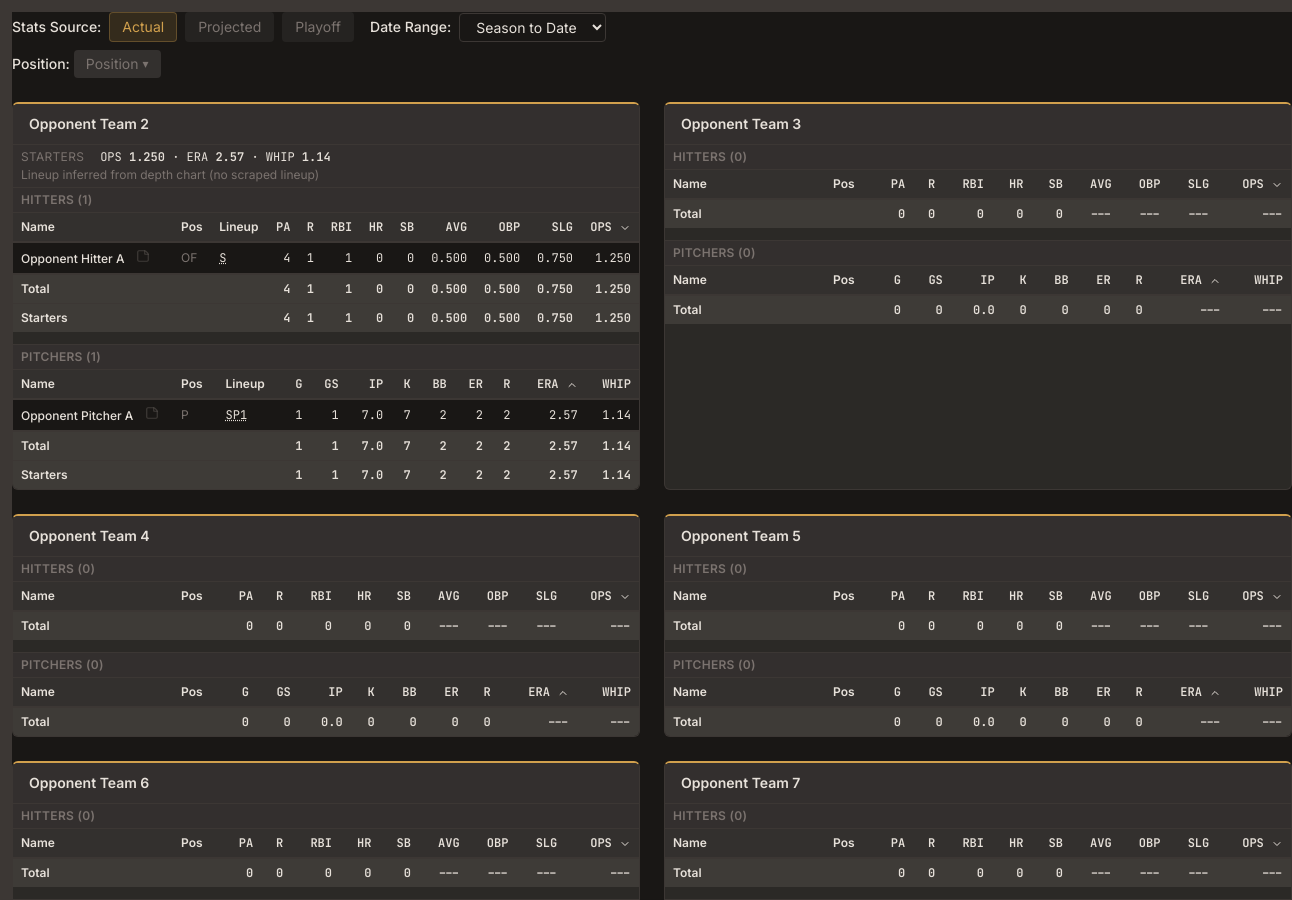
Test: OpponentsGrid › shows matching hitters when their position is selected
Note: Open Position dropdown and select "OF"
Step 1. Click the button "Position ▾" → (117, 64), box 74,50 -> 160,78
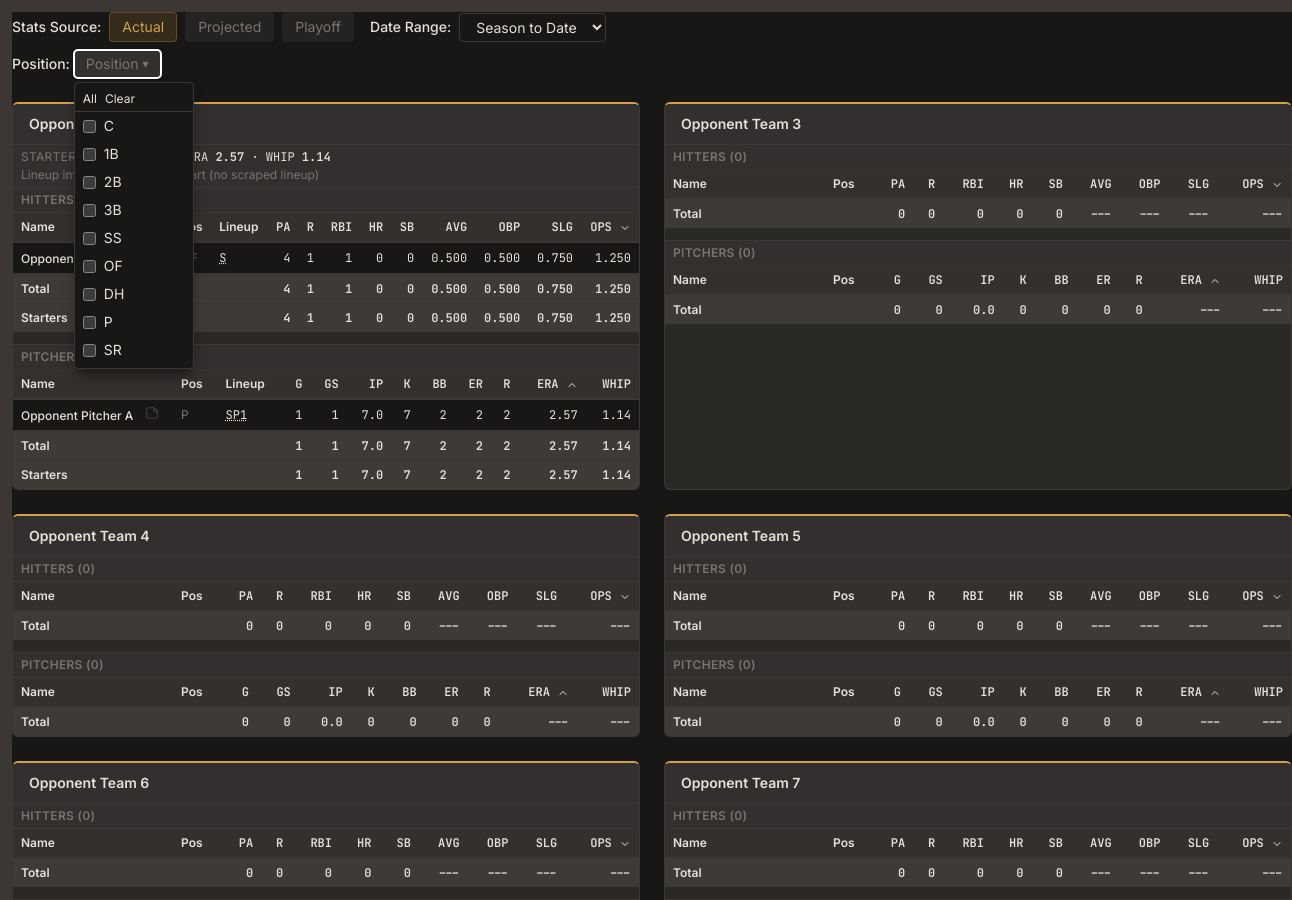
Step 2. Click the checkbox labelled "OF" → (89, 266), box 83,260 -> 96,272
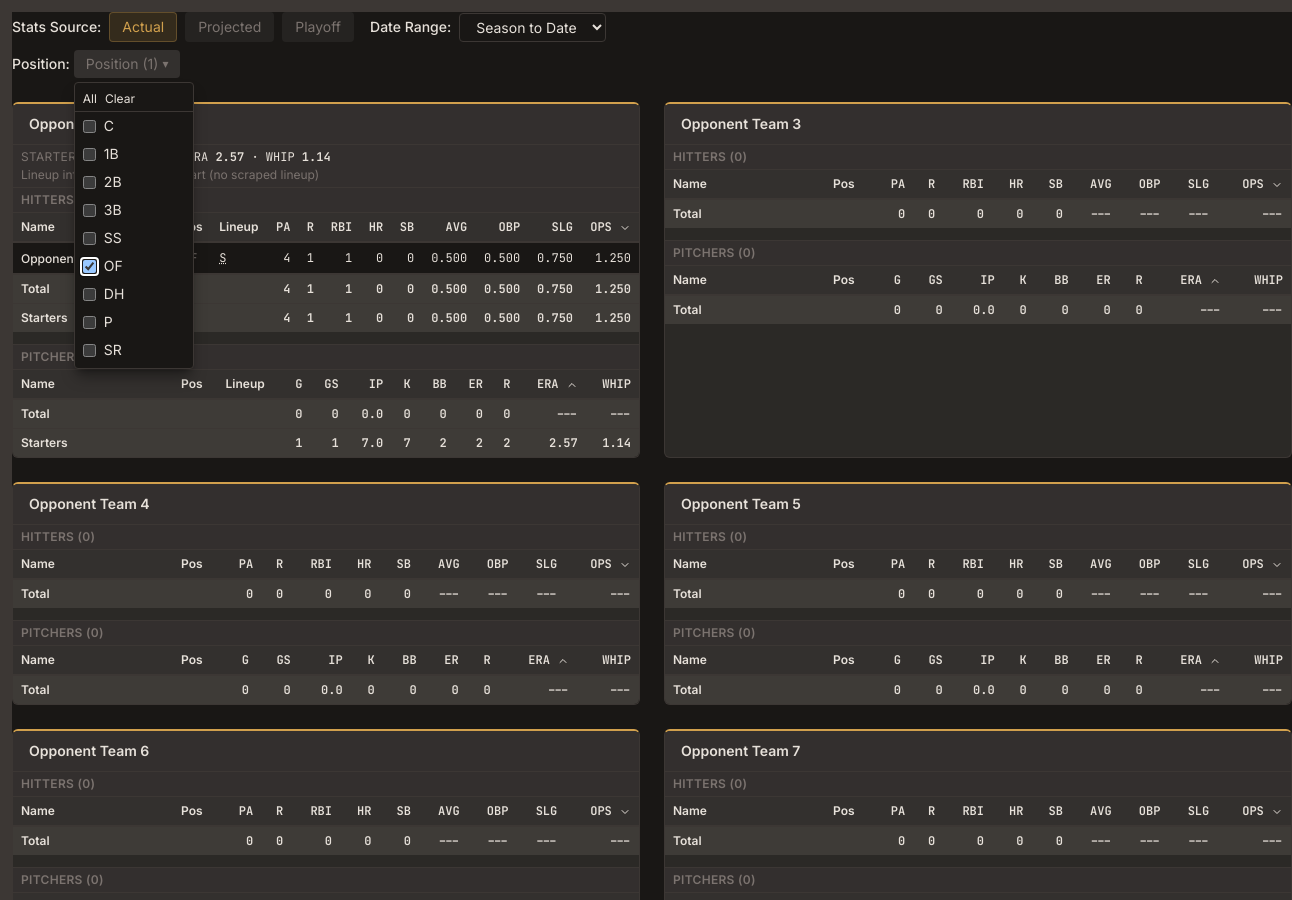
expect the link "Opponent Hitter A" is shown: met, box 21,251 -> 124,266
expect the link "Opponent Pitcher A" is gone: met
